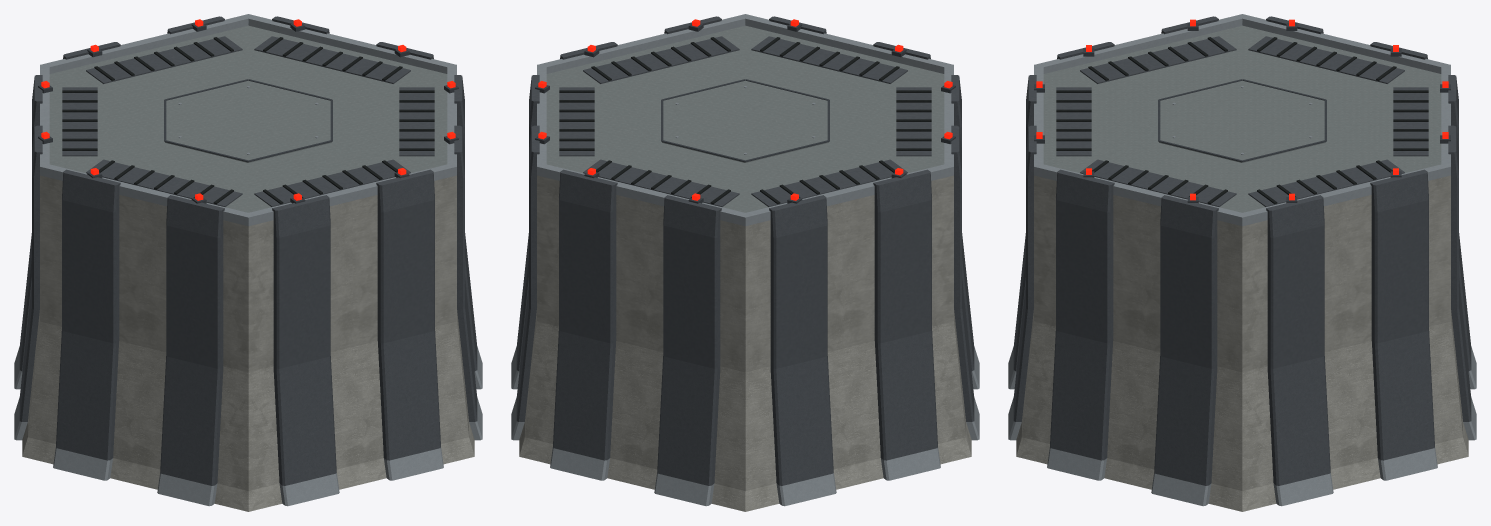
The model's file is terminal.glb.
3 views of the same model, side by side, from view 1: azimuth 30°, elevation 25°; view 2: azimuth 150°, elevation 25°; view 3: azimuth 270°, elevation 25° (orthographic).
Visible parts, largest first — view 1: terminal-lod0-roof0, terminal-lod0-base0, terminal-lod0-floor0; view 2: terminal-lod0-roof0, terminal-lod0-base0, terminal-lod0-floor0; view 3: terminal-lod0-roof0, terminal-lod0-base0, terminal-lod0-floor0.
Boxes of the visible parts, x1,y1,x2,y2 form: terminal-lod0-roof0: (32,14,464,241); terminal-lod0-base0: (14,233,482,511); terminal-lod0-floor0: (32,127,464,372); terminal-lod0-roof0: (529,14,961,241); terminal-lod0-base0: (511,233,979,511); terminal-lod0-floor0: (529,127,961,372); terminal-lod0-roof0: (1026,14,1458,241); terminal-lod0-base0: (1008,233,1476,511); terminal-lod0-floor0: (1026,127,1458,372).
Size of what is drawn, in the model's own units: 65.13 by 40.38 by 58.4.
7 materials, 7 textured.
